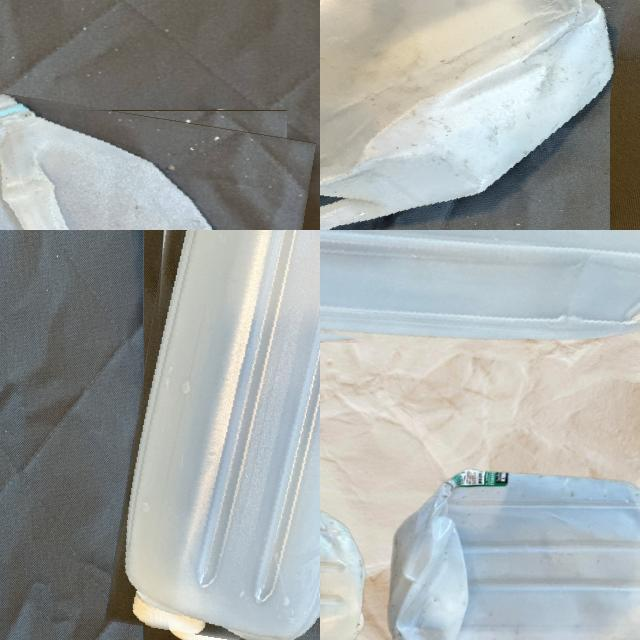milk-jug: (124, 230, 320, 640), (320, 0, 623, 230), (389, 467, 640, 640), (320, 230, 640, 365), (0, 95, 301, 230)
